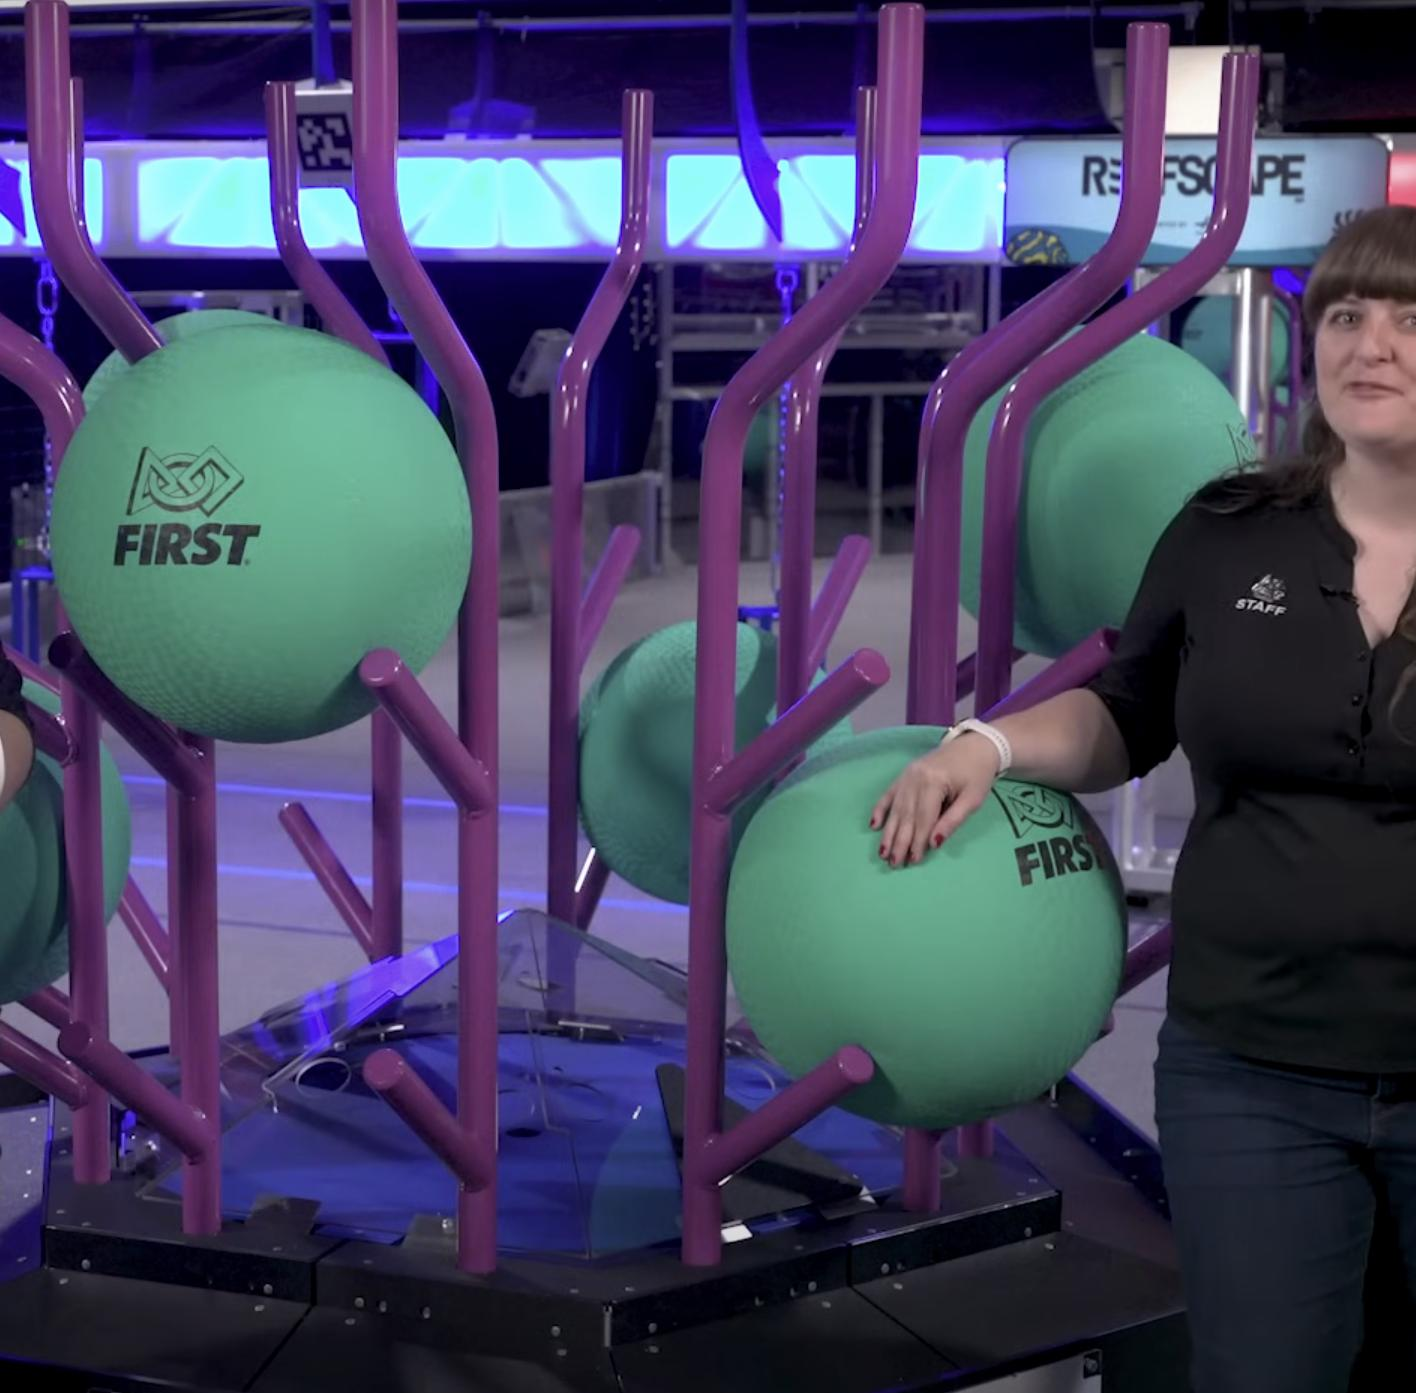algae: (46, 325, 475, 745), (722, 722, 1129, 1131), (955, 325, 1258, 660), (573, 616, 853, 906), (0, 677, 131, 1009), (84, 309, 290, 411), (1183, 293, 1288, 393), (1278, 387, 1309, 453)
